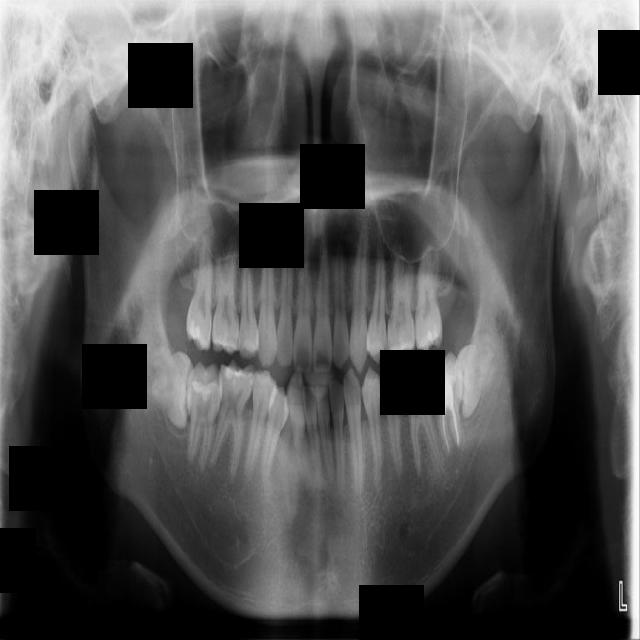52: (429, 355, 463, 411)
73: (437, 407, 463, 457), (583, 587, 590, 598)
BioHorizons Implant: (415, 245, 442, 353)
Biomet 3i Implant: (456, 329, 495, 419)
Blue Sky Bio Implant: (430, 352, 464, 458)
Caries: (185, 241, 213, 354)
Implant: (179, 361, 224, 471)
Keystone Dental Implant: (150, 346, 194, 425)
